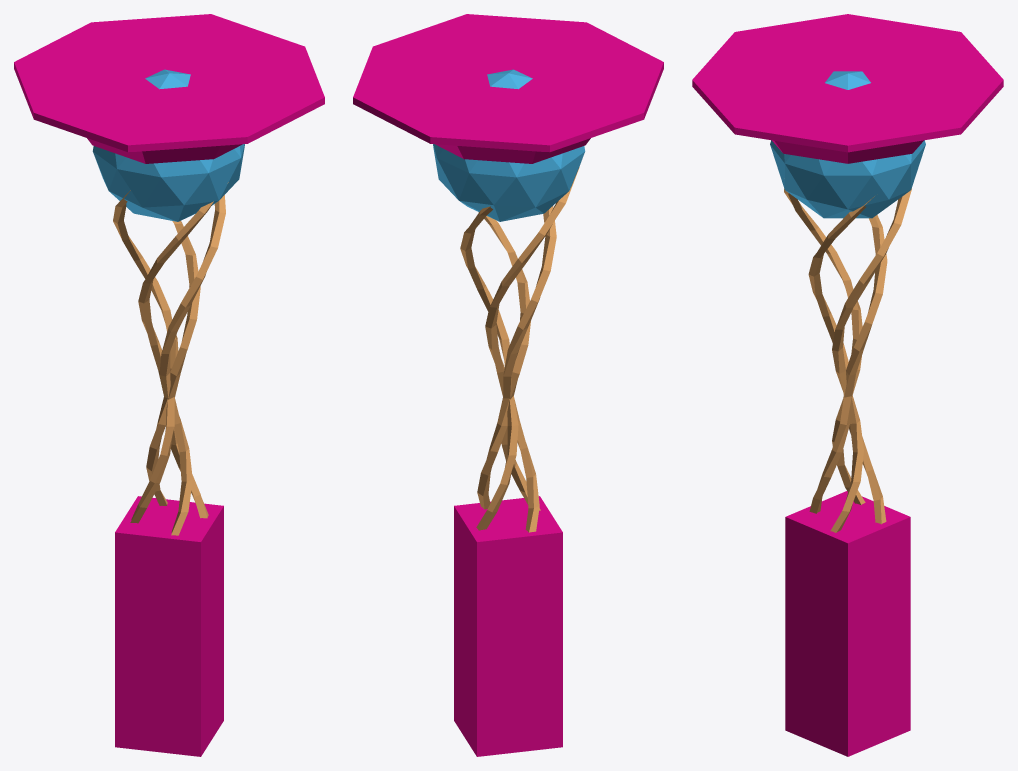
File: C_PilierCentral.fbx
3 views of the same model, side by side, from view 1: azimuth 30°, elevation 25°; view 2: azimuth 150°, elevation 25°; view 3: azimuth 270°, elevation 25° (orthographic).
Visible parts, largest first — view 1: Cube; view 2: Cube; view 3: Cube.
Boxes of the visible parts, x1,y1,x2,y2 form: Cube: (14, 14, 324, 756); Cube: (353, 14, 663, 756); Cube: (692, 14, 1003, 756).
Size of the model in its own units: 293 by 681 by 293.
